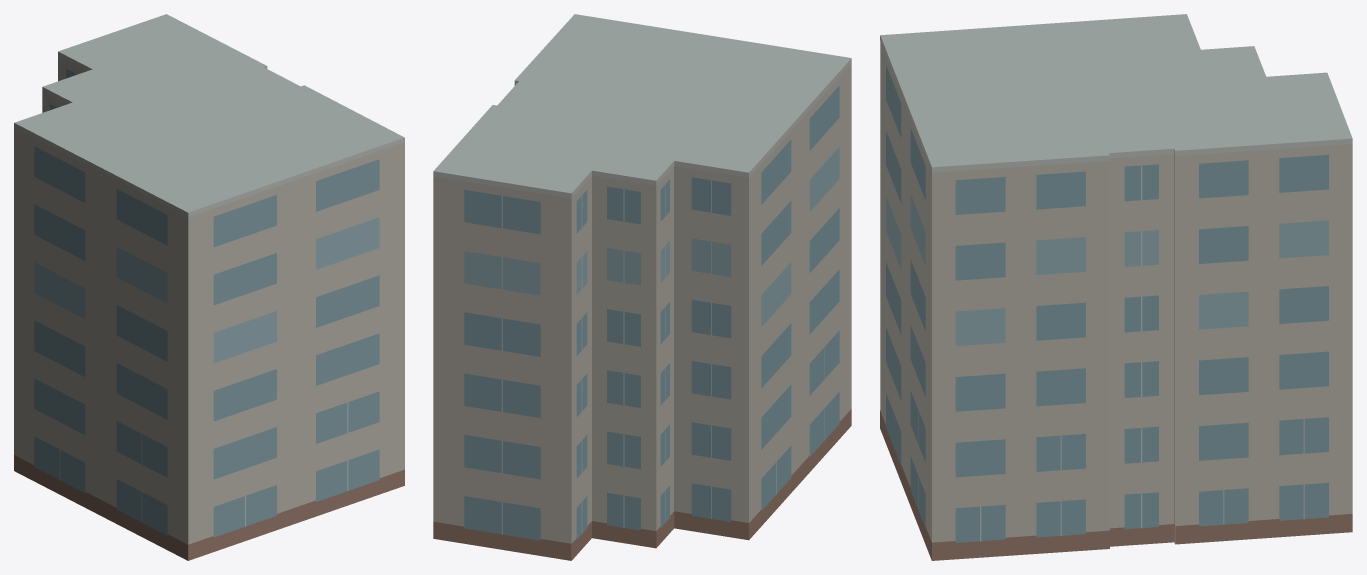
Rendered from survey-upis-32998828.glb.
The picture shows the model from 3 angles, left to right: view 1: azimuth 30°, elevation 25°; view 2: azimuth 150°, elevation 25°; view 3: azimuth 270°, elevation 25°; orthographic projection. The views are drawn at different scales.
Visible parts, largest first — view 1: survey-upis-32998828.tmp; view 2: survey-upis-32998828.tmp; view 3: survey-upis-32998828.tmp.
Part boxes in pixels (bbox=[...]): survey-upis-32998828.tmp: bbox=[14, 14, 404, 560]; survey-upis-32998828.tmp: bbox=[433, 14, 851, 560]; survey-upis-32998828.tmp: bbox=[880, 14, 1352, 560].
Bounding box in the file's own units: 14.8 × 17.7 × 19.27.
